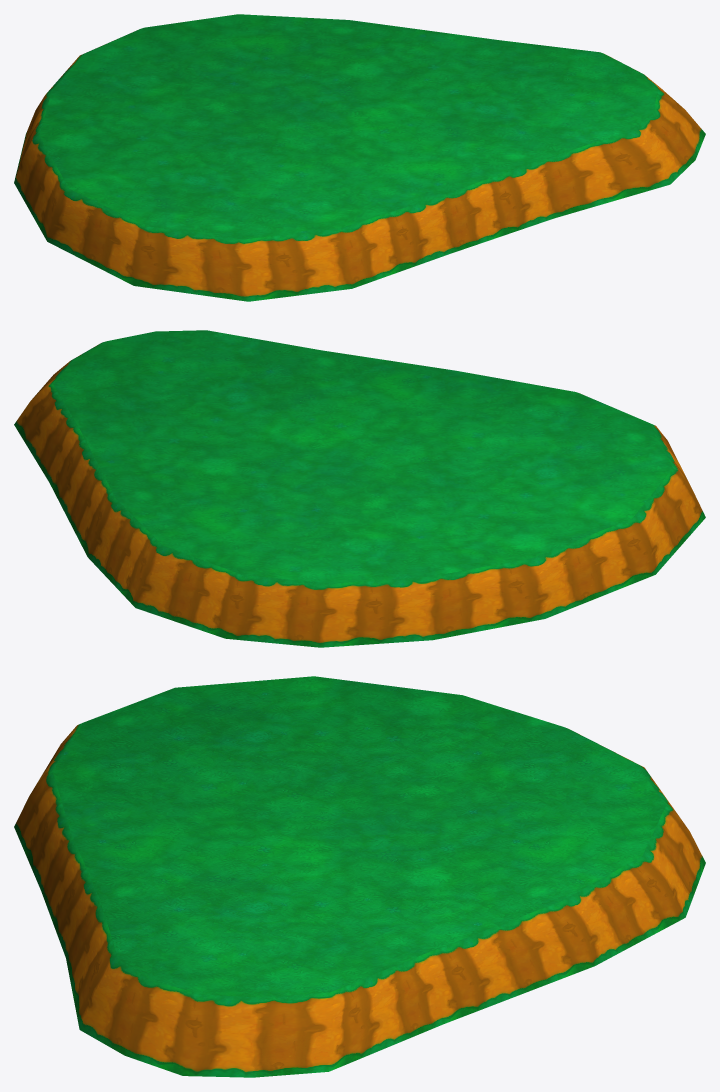
The model's file is Hill01_h01.FBX.
The picture shows the model from 3 angles, top to bottom: view 1: azimuth 30°, elevation 25°; view 2: azimuth 150°, elevation 25°; view 3: azimuth 270°, elevation 25°; orthographic projection. The views are drawn at different scales.
Parts seen in each view (by area): view 1: Hill01_h01; view 2: Hill01_h01; view 3: Hill01_h01.
Part boxes in pixels (x1,y1,x2,y2): Hill01_h01: (14, 14, 705, 301); Hill01_h01: (14, 330, 705, 647); Hill01_h01: (14, 676, 705, 1077).
Size of the model in its own units: 2010 by 151 by 1647.
2 materials, 2 textured.
